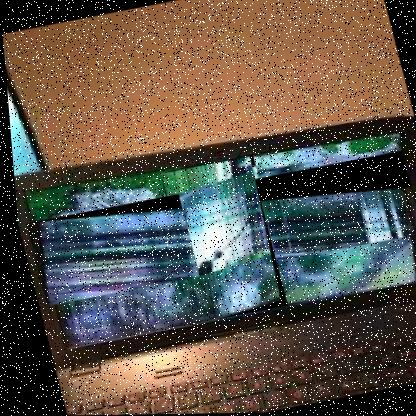crack: (156, 155, 271, 252)
lines: (17, 150, 415, 307), (169, 156, 284, 322)
